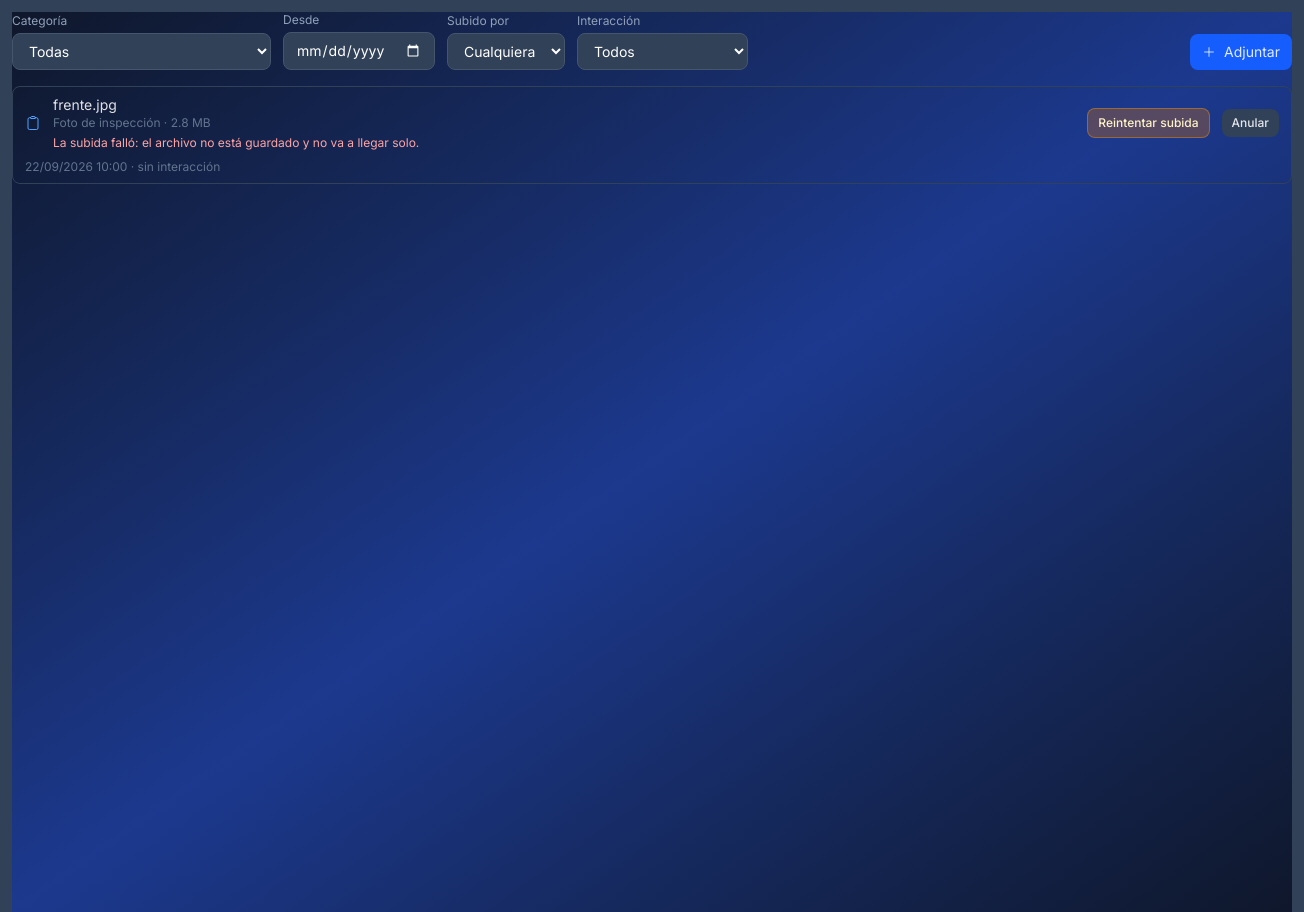
Documentos — reintentar la subida (C-6q punto 1 / backend C-6n) › sin copia del archivo muestra el 409 del backend, que es el que sabe
Click the button "Reintentar subida": {"x": 1148, "y": 123} [1087, 108, 1210, 138]
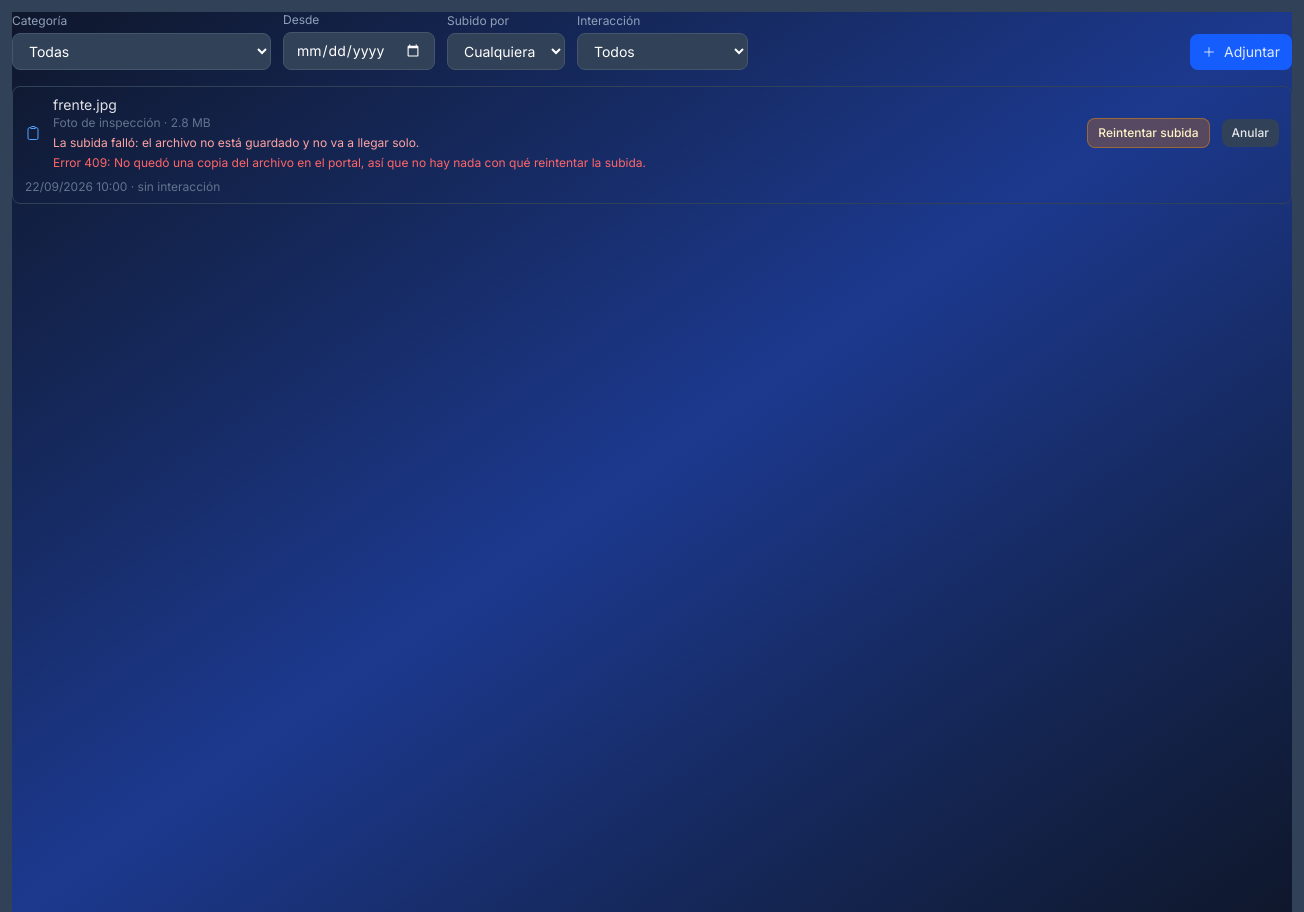
Check: the text "No quedó una copia del archivo en el portal" is shown, box [53, 155, 646, 170]
